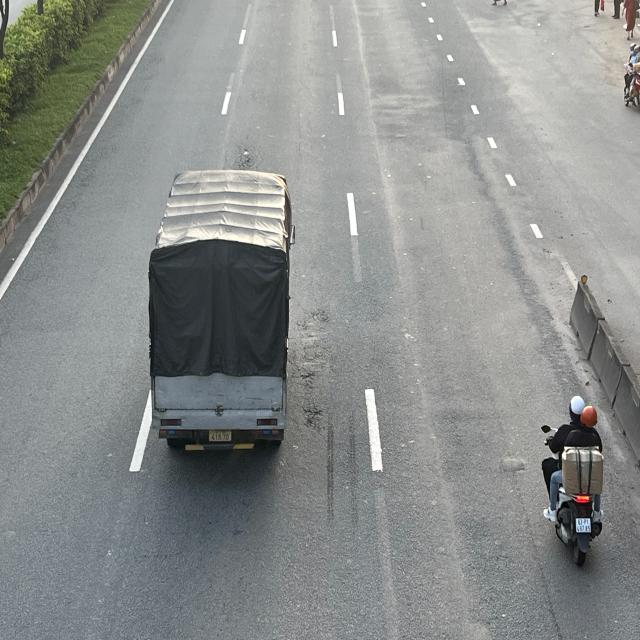truck: (144, 164, 292, 454)
